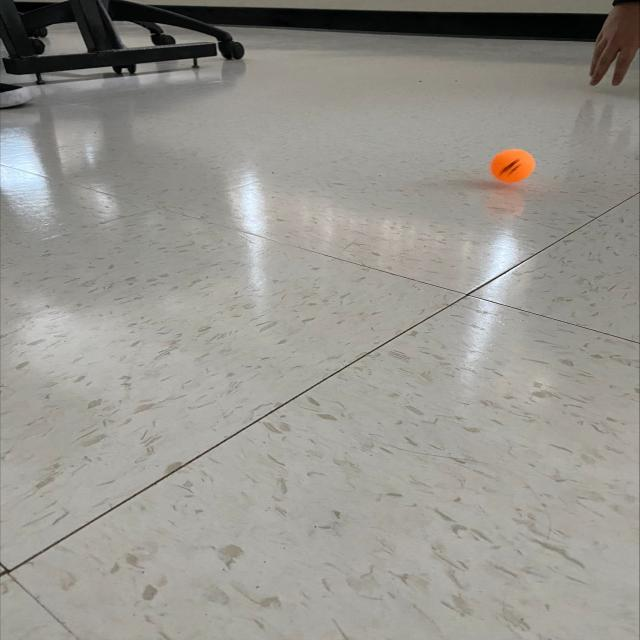ping-pong-ball: (487, 146, 537, 184)
